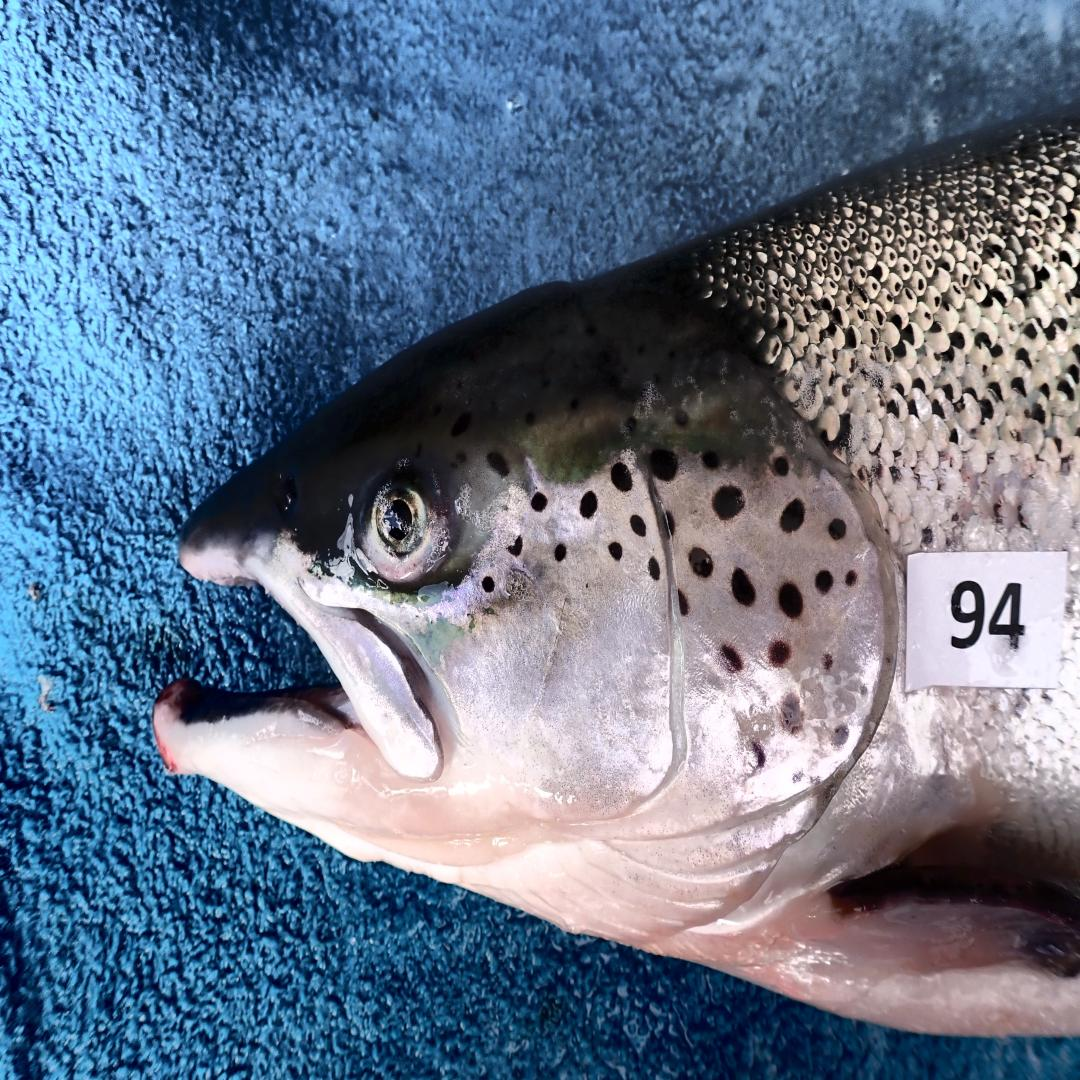spot: (778, 692, 804, 734), (713, 486, 745, 520), (731, 568, 755, 608), (778, 582, 802, 618), (650, 450, 677, 481), (780, 498, 804, 532), (690, 548, 713, 577), (612, 461, 633, 492), (719, 644, 742, 672), (768, 639, 791, 667), (580, 492, 597, 518), (827, 518, 846, 540), (832, 724, 850, 747), (751, 742, 766, 768), (816, 571, 833, 593), (665, 510, 677, 539), (508, 534, 523, 557), (702, 450, 719, 470), (631, 515, 645, 537), (774, 456, 789, 475), (532, 492, 546, 512), (679, 591, 690, 616), (648, 557, 660, 579), (555, 543, 567, 562), (481, 577, 494, 593), (610, 543, 622, 560), (823, 652, 833, 672), (846, 571, 856, 585)
